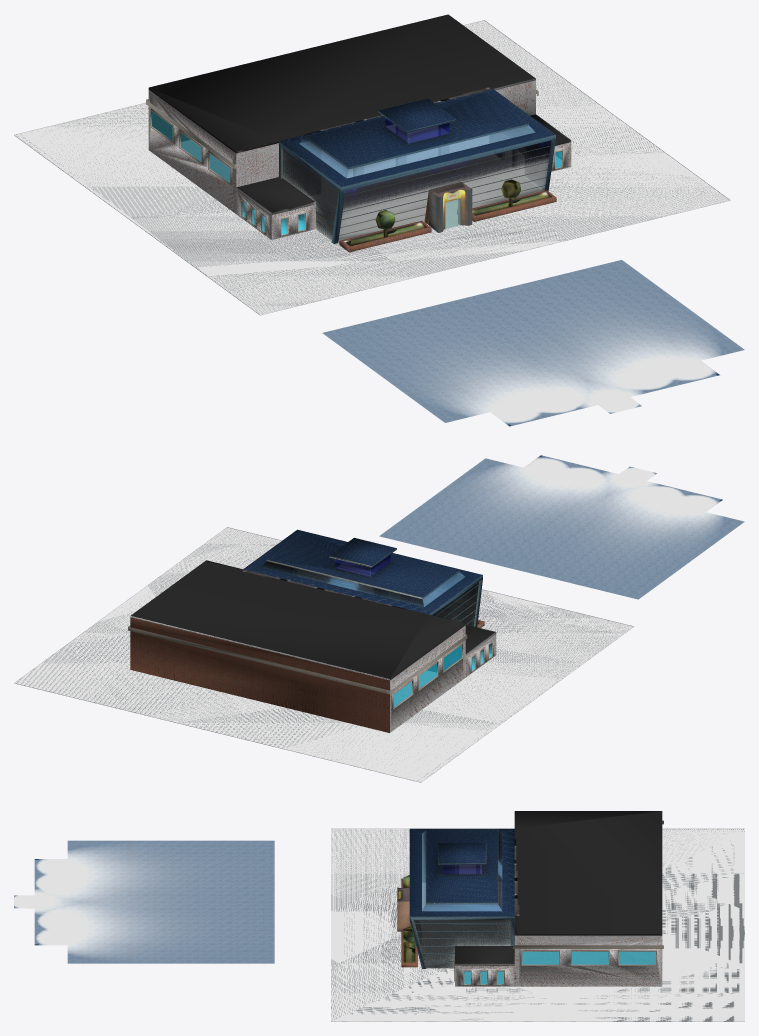
Rendered from zaloha_showroom.obj.
The picture shows the model from 3 angles, top to bottom: view 1: azimuth 30°, elevation 25°; view 2: azimuth 150°, elevation 25°; view 3: azimuth 270°, elevation 25°; orthographic projection. The views are drawn at different scales.
Visible parts, largest first — view 1: Mesh18 Model, Mesh23 Model, Mesh24 Model, Mesh19 Model, Mesh20 Model; view 2: Mesh18 Model, Mesh23 Model, Mesh24 Model; view 3: Mesh18 Model, Mesh23 Model, Mesh24 Model, Mesh20 Model.
Boxes of the visible parts, bbox=[...] form: Mesh18 Model: bbox=[146, 14, 571, 243]; Mesh23 Model: bbox=[14, 20, 730, 315]; Mesh24 Model: bbox=[322, 260, 744, 425]; Mesh19 Model: bbox=[339, 220, 431, 252]; Mesh20 Model: bbox=[472, 190, 556, 221]; Mesh18 Model: bbox=[128, 529, 496, 732]; Mesh23 Model: bbox=[14, 527, 634, 782]; Mesh24 Model: bbox=[379, 456, 744, 599]; Mesh18 Model: bbox=[397, 811, 663, 986]; Mesh23 Model: bbox=[331, 828, 744, 1021]; Mesh24 Model: bbox=[14, 840, 274, 963]; Mesh20 Model: bbox=[401, 929, 417, 967].
Bounding box in the file's own units: 55.15 × 9.65 × 88.27.
